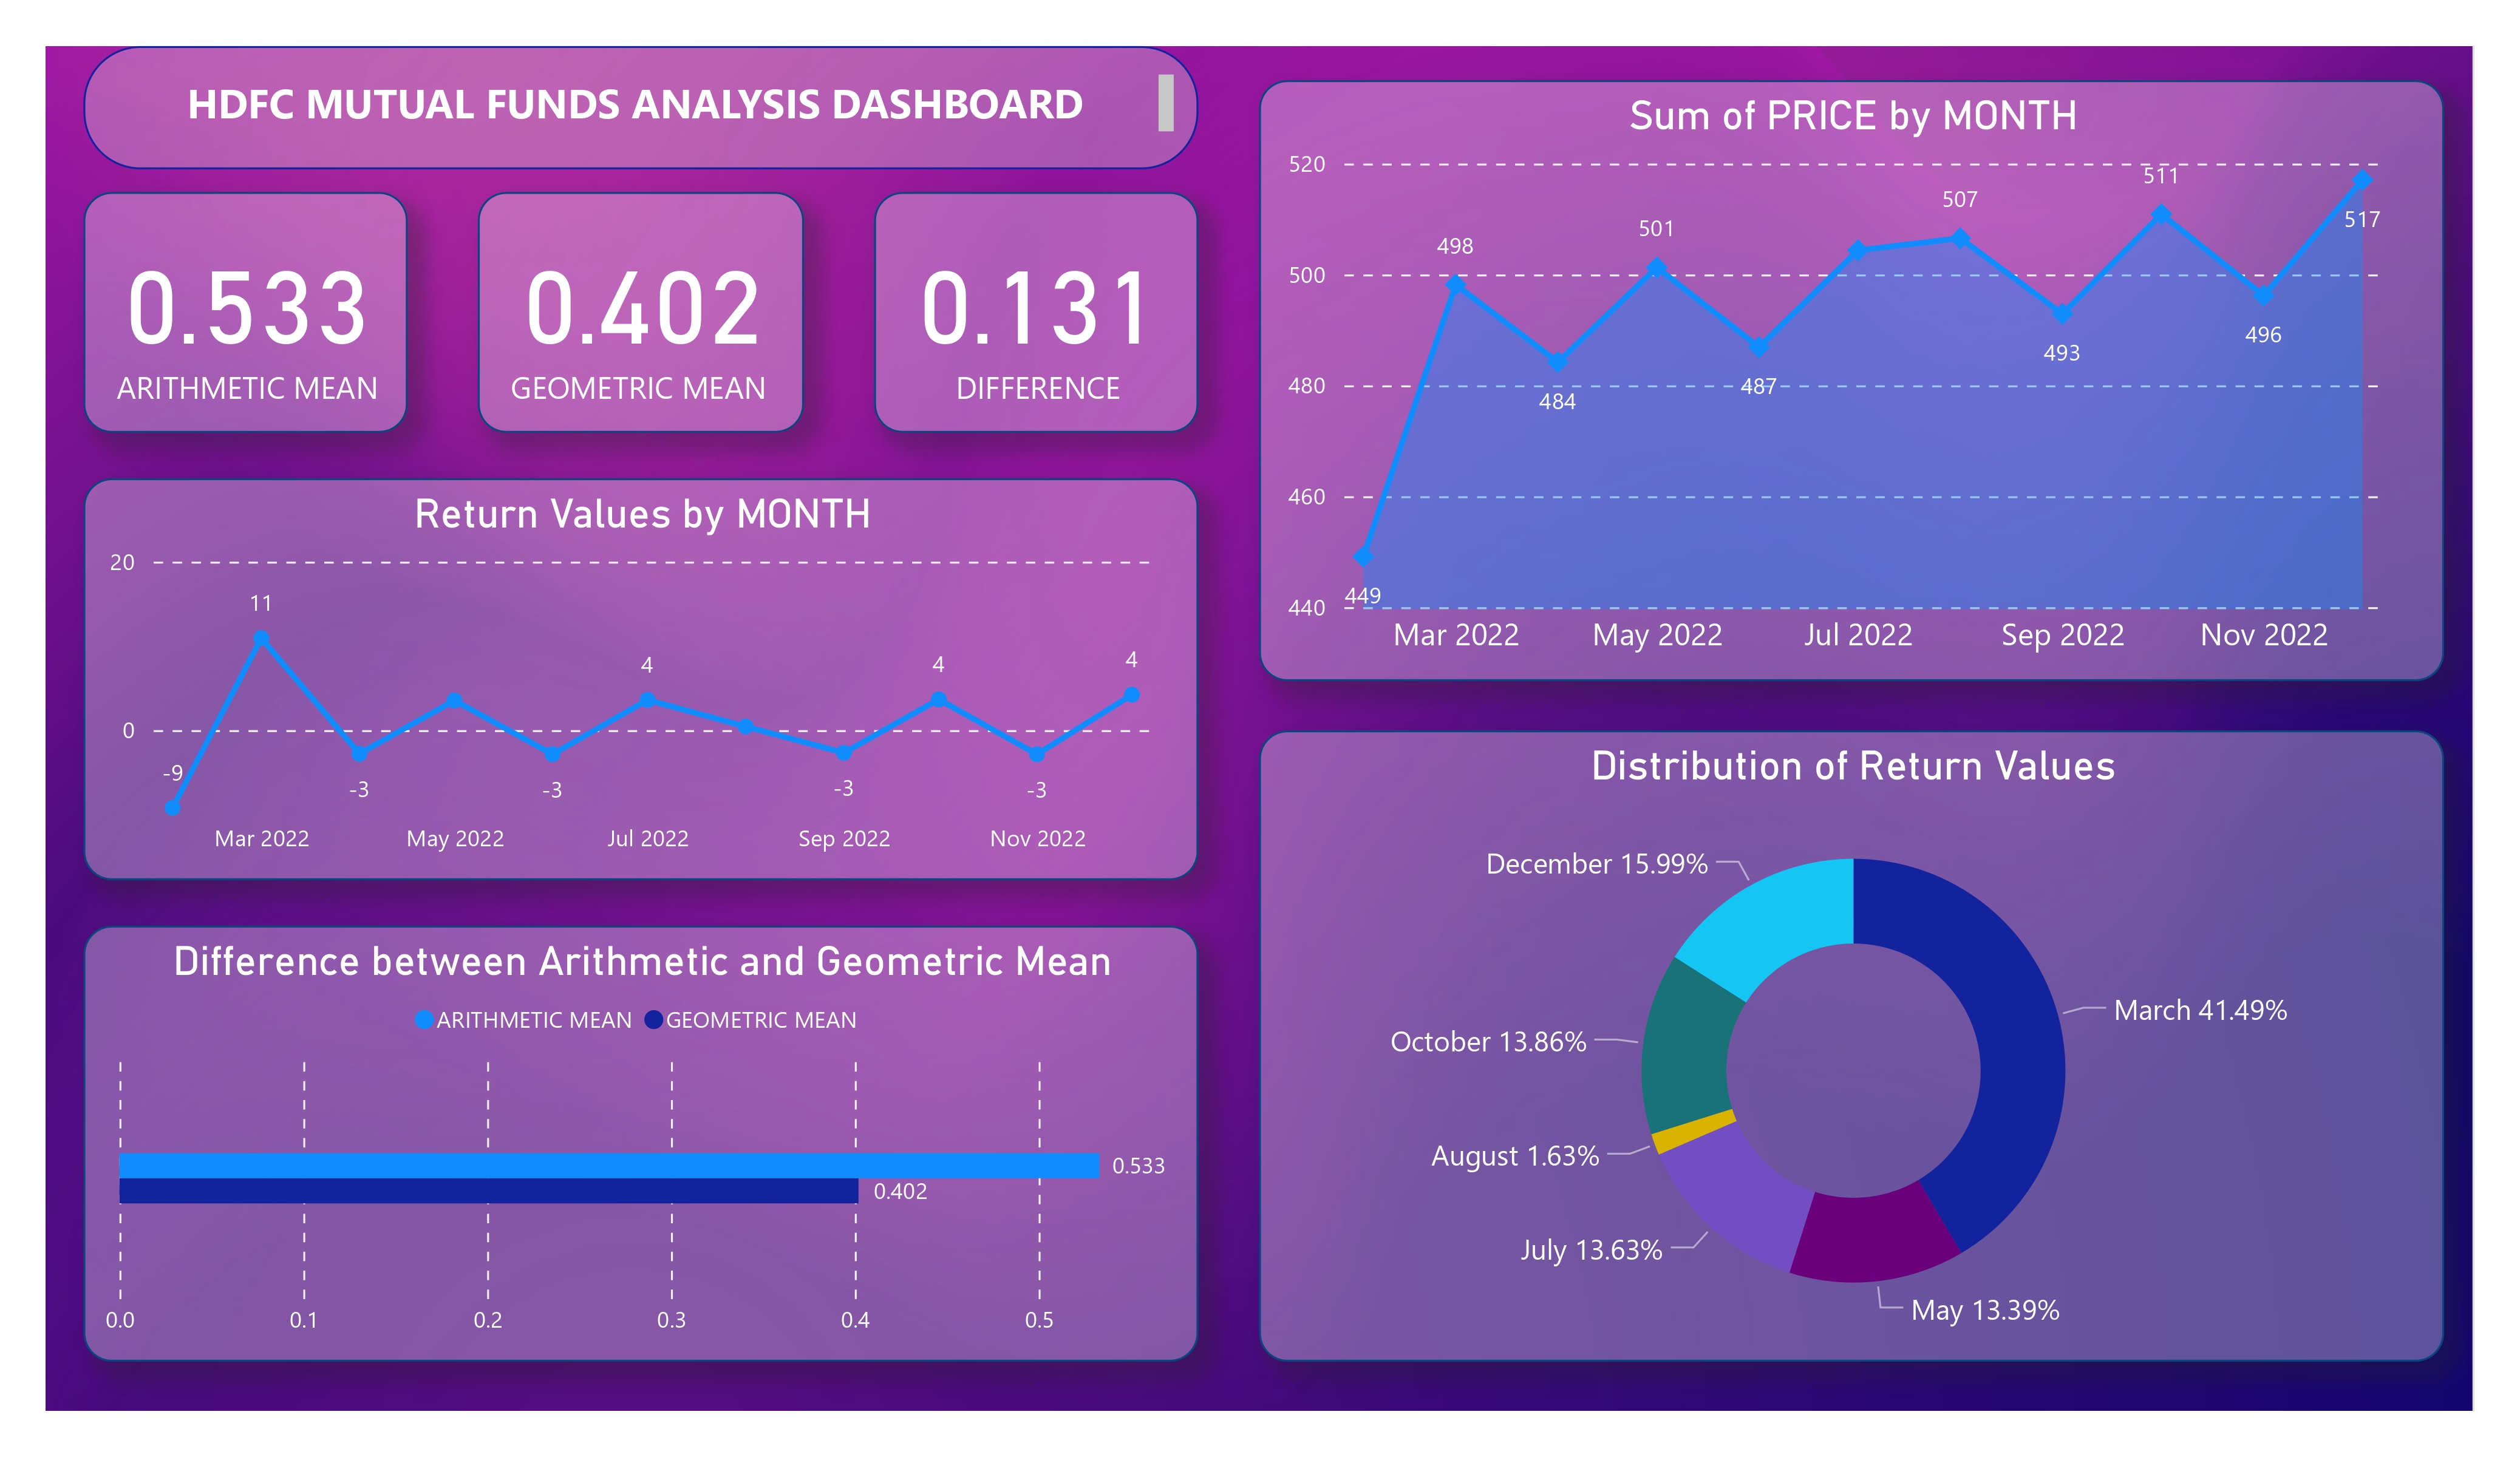

The page's visual inventory and layout, read from the dashboard file:
{"tool":"powerbi","page":{"name":"HDFC","canvas":[1280,720],"ordinal":2},"visuals":[{"type":"textbox","box":[19.5,0,589,64.6],"z":0},{"type":"lineChart","title":"Return Values by MONTH","fields":{"Category":["AXIS.MONTH.Variation.Date Hierarchy.Year","AXIS.MONTH.Variation.Date Hierarchy.Quarter","AXIS.MONTH.Variation.Date Hierarchy.Month","AXIS.MONTH.Variation.Date Hierarchy.Day"],"Y":["Sum(HDFC.RETURN)"]},"box":[19.5,228.4,589,211.8],"z":1000},{"type":"areaChart","fields":{"Category":["AXIS.MONTH"],"Y":["Sum(HDFC.PRICE)"]},"box":[640,18,625,317],"z":2000},{"type":"donutChart","title":"Distribution of Return Values","fields":{"Category":["AXIS.MONTH.Variation.Date Hierarchy.Month","AXIS.MONTH.Variation.Date Hierarchy.Day"],"Y":["Sum(HDFC.RETURN)"]},"box":[640,360.6,625,333.5],"z":3000},{"type":"clusteredBarChart","title":"Difference between Arithmetic and Geometric Mean","fields":{"Y":["Sum(hdfc (2).ARITHMETIC MEAN)","Sum(hdfc (2).GEOMETRIC MEAN )"]},"box":[19.5,464.3,589,229.9],"z":4000},{"type":"card","fields":{"Values":["Sum(hdfc (2).ARITHMETIC MEAN)"]},"box":[19.5,76.6,171.3,127.7],"z":5000},{"type":"card","fields":{"Values":["Sum(hdfc (2).GEOMETRIC MEAN )"]},"box":[228.4,76.6,171.3,127.7],"z":6000},{"type":"card","fields":{"Values":["Sum(hdfc (2).DIFFERENCE)"]},"box":[437.2,76.6,171.3,127.7],"z":7000}]}

Visuals, with their boxes in screenshot pixels (x1, y1, x2, y2):
textbox: bbox=(83, 46, 1200, 168)
"Return Values by MONTH" lineChart: bbox=(83, 479, 1200, 881)
areaChart - AXIS.MONTH x Sum(HDFC.PRICE): bbox=(1260, 80, 2446, 681)
"Distribution of Return Values" donutChart: bbox=(1260, 730, 2446, 1362)
"Difference between Arithmetic and Geometric Mean" clusteredBarChart: bbox=(83, 926, 1200, 1362)
card - Sum(hdfc (2).ARITHMETIC MEAN): bbox=(83, 191, 407, 433)
card - Sum(hdfc (2).GEOMETRIC MEAN ): bbox=(479, 191, 804, 433)
card - Sum(hdfc (2).DIFFERENCE): bbox=(875, 191, 1200, 433)
